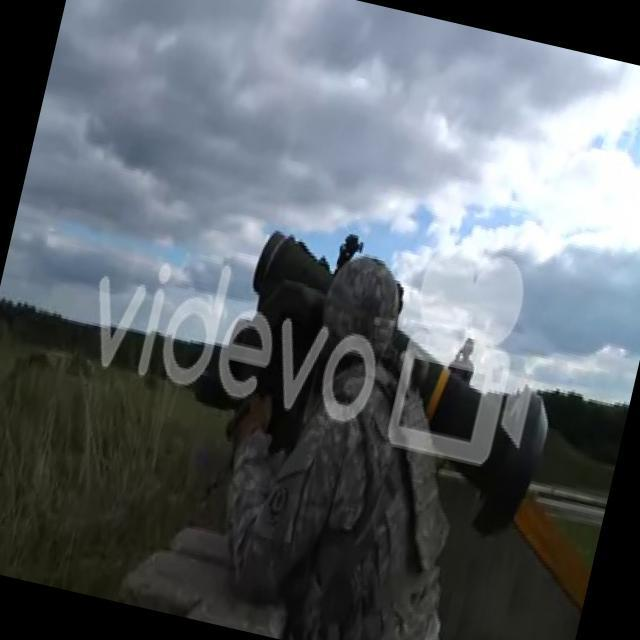rocket: (208, 228, 572, 538)
